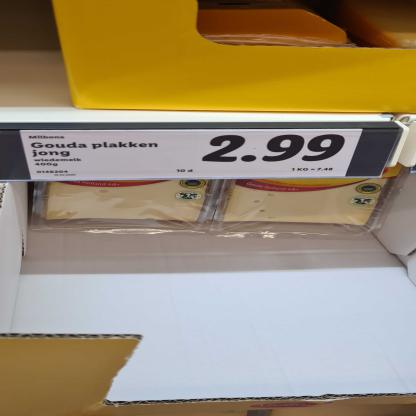prtg: (20, 130, 364, 180)
